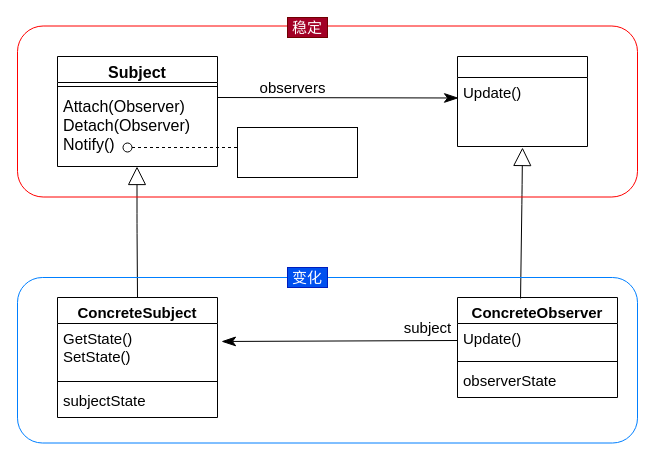
Some shapes in this 655 by 461 pixel diagram are drawn without their labels. The box of each missing label's shape, as (x1, y1, x2, y2) in pixels:
for all observer: o->Update(): (236, 126, 358, 178)
Observer: (456, 56, 588, 146)
